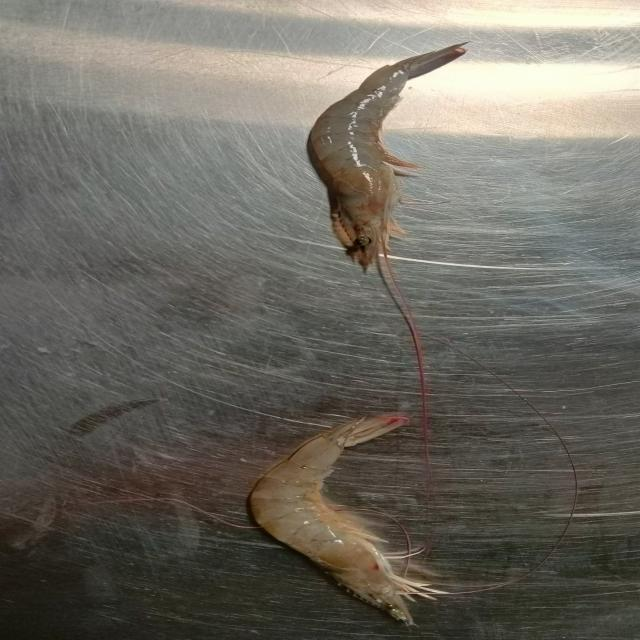shrimp: (303, 42, 468, 272), (243, 415, 413, 626)
